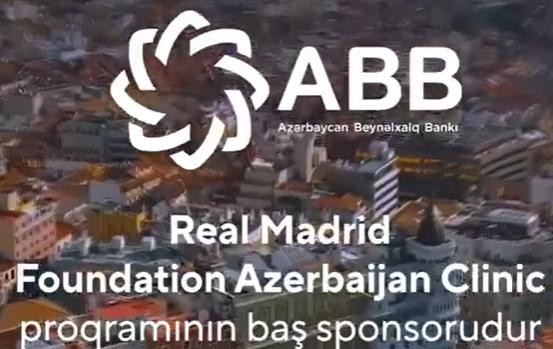ABB: (105, 8, 271, 172)
